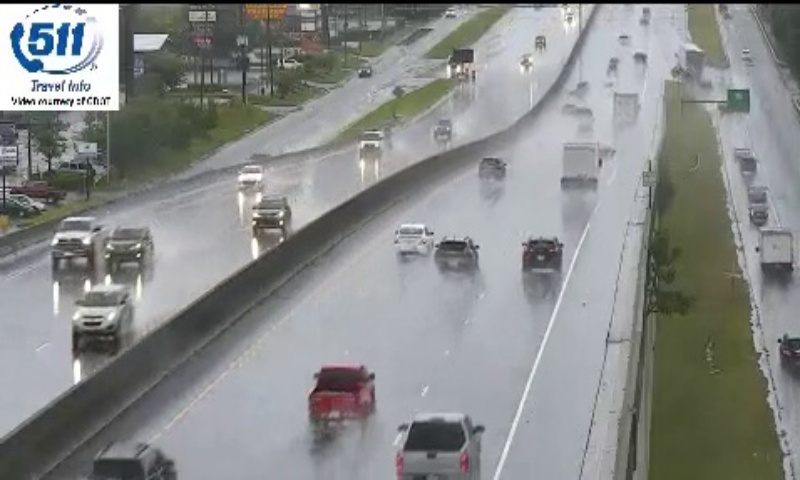car: (396, 415, 480, 480), (309, 365, 373, 417), (433, 238, 476, 274), (522, 236, 562, 268), (393, 224, 430, 257)
